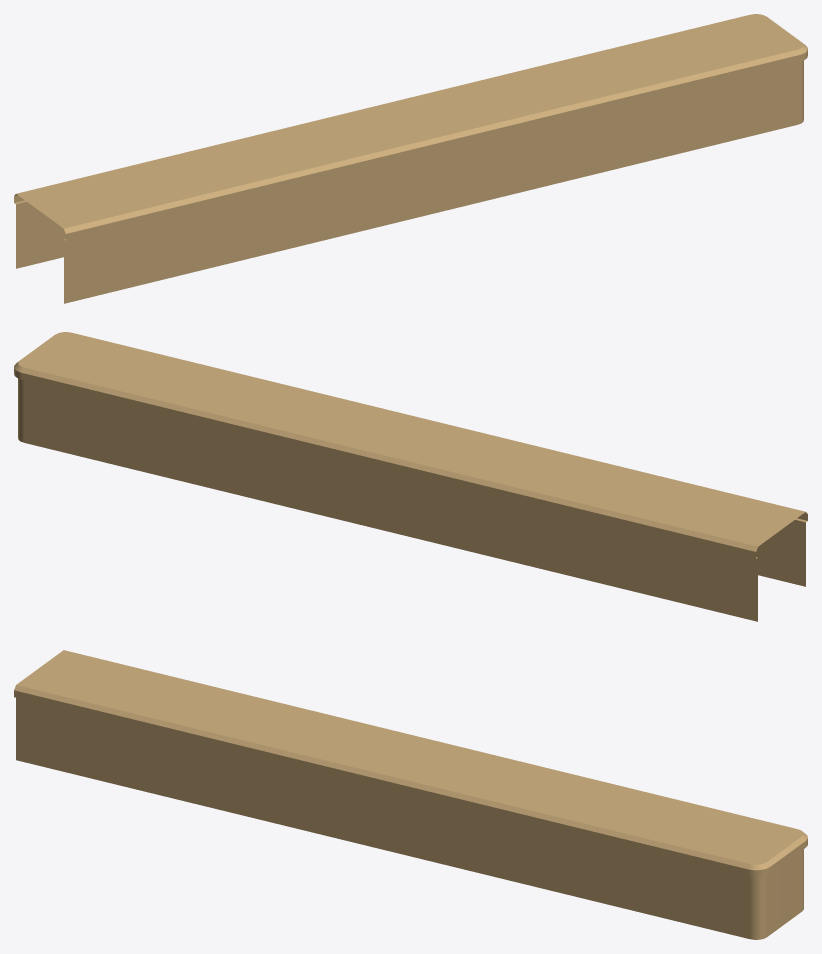
The model's file is trap.fbx.
The picture shows the model from 3 angles, top to bottom: view 1: azimuth 30°, elevation 25°; view 2: azimuth 150°, elevation 25°; view 3: azimuth 330°, elevation 25°; orthographic projection.
Visible parts, largest first — view 1: trap; view 2: trap; view 3: trap.
Boxes of the visible parts, box(x1,y1,x2,y2) form: trap: box(14, 14, 807, 303); trap: box(14, 332, 807, 621); trap: box(14, 650, 807, 939).
Size of the model in its own units: 6.47 by 0.6216 by 0.7774.
